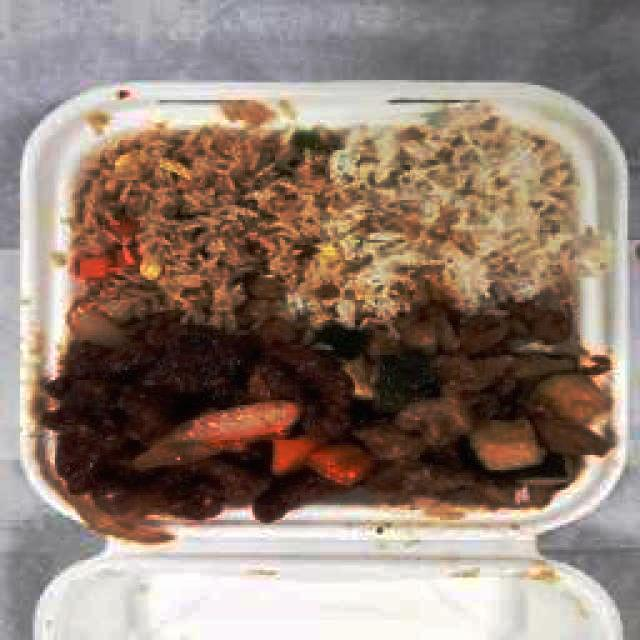Beijing Beef: (70, 317, 354, 522)
Fried Rice: (71, 133, 309, 314)
Kung Pao Chicken: (368, 320, 608, 494)
rice: (316, 139, 568, 303)
